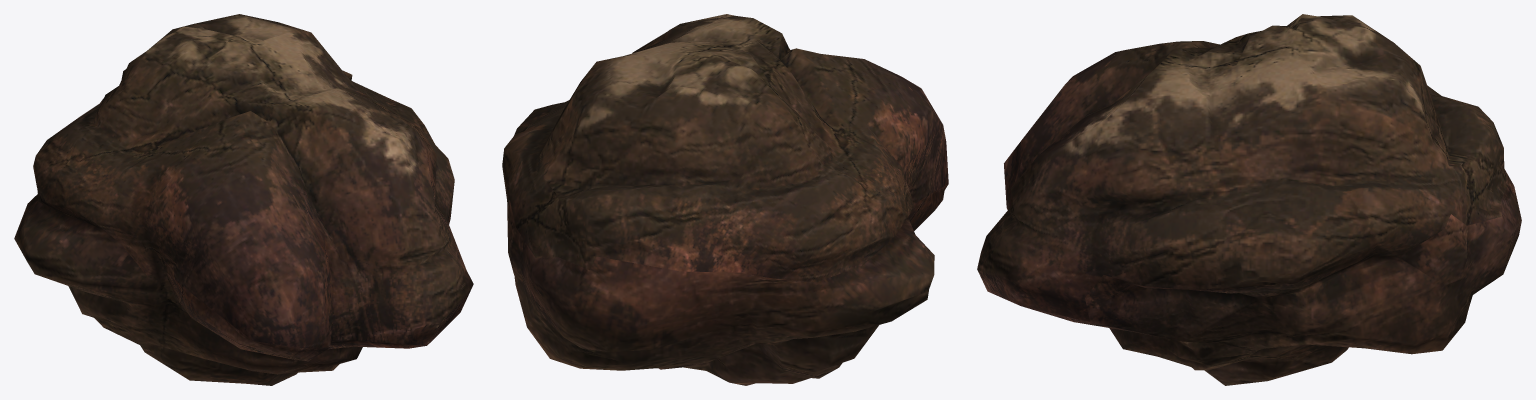
Rendered from rock_red_small04.dae.
3 views of the same model, side by side, from view 1: azimuth 30°, elevation 25°; view 2: azimuth 150°, elevation 25°; view 3: azimuth 270°, elevation 25° (orthographic). The views are drawn at different scales.
Parts seen in each view (by area): view 1: Mesh02; view 2: Mesh02; view 3: Mesh02.
Boxes of the visible parts, left/top/right/bottom form: Mesh02: left=14, top=14, right=473, bottom=385; Mesh02: left=502, top=14, right=948, bottom=385; Mesh02: left=977, top=14, right=1521, bottom=385.
Size of the model in its own units: 2.93 by 2.3 by 3.29.
